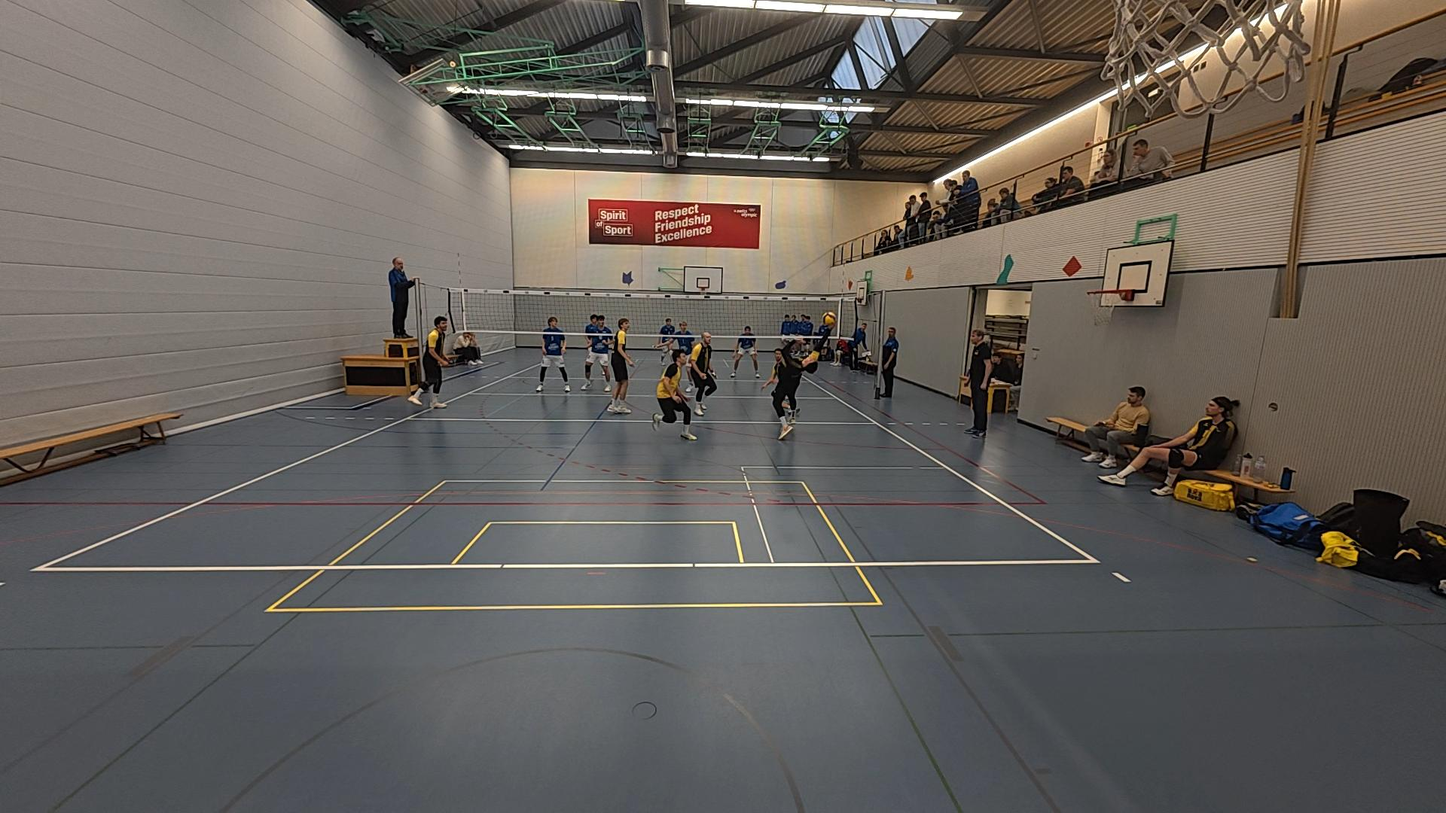Dig: (767, 312, 841, 442)
Player: (654, 355, 697, 440), (415, 315, 452, 409), (535, 315, 571, 393), (686, 330, 716, 416), (606, 319, 633, 414), (578, 312, 609, 389), (726, 324, 761, 379), (655, 314, 679, 361)
ball: (902, 265, 916, 280), (822, 309, 837, 323)
